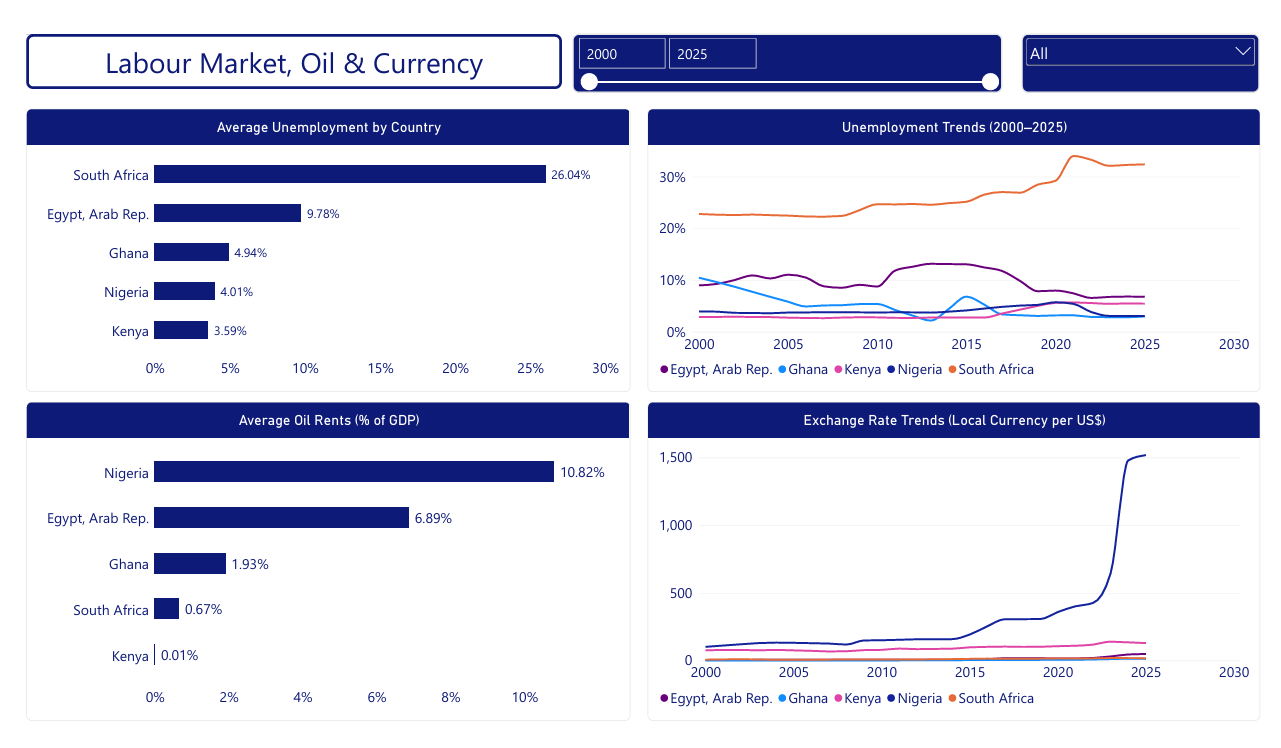

The page's visual inventory and layout, read from the dashboard file:
{"tool":"powerbi","page":{"name":"Labour Market, Oil & Currency","canvas":[1920,1080],"ordinal":3},"visuals":[{"type":"shape","box":[17.3,19.4,812.2,82.1],"z":0},{"type":"clusteredBarChart","title":"Average Unemployment by Country","fields":{"Category":["african_economic_indicators.country"],"Y":["african_economic_indicators.Average Unemployment"]},"box":[17.3,131.8,915.8,429.8],"z":1000},{"type":"lineChart","title":"Unemployment Trends (2000–2025)","fields":{"Category":["african_economic_indicators.year"],"Series":["african_economic_indicators.country"],"Y":["african_economic_indicators.Average Unemployment"]},"box":[959,131.8,928.8,429.8],"z":2000},{"type":"clusteredBarChart","title":"Average Oil Rents (% of GDP)","fields":{"Category":["african_economic_indicators.country"],"Y":["african_economic_indicators.Average Oil Rents"]},"box":[17.3,576.7,915.8,483.8],"z":3000},{"type":"lineChart","title":"Exchange Rate Trends (Local Currency per US$)","fields":{"Category":["african_economic_indicators.year"],"Series":["african_economic_indicators.country"],"Y":["african_economic_indicators.Average Exchange Rate"]},"box":[959,576.7,928.8,483.8],"z":4000},{"type":"slicer","fields":{"Values":["african_economic_indicators.year"]},"box":[845.1,18.5,652.3,89.8],"z":5000},{"type":"slicer","fields":{"Values":["african_economic_indicators.country"]},"box":[1526.5,18.5,361,89.8],"z":6000}]}

Visuals, with their boxes on the page's 1920x1080 design canvas (x1, y1, x2, y2). These are canvas units, not pixel positions in the 1281x748 screenshot, which may show the page scaled, cropped or inside an application window:
shape: pyautogui.locateOnScreen(17, 19, 830, 102)
"Average Unemployment by Country" clusteredBarChart: pyautogui.locateOnScreen(17, 132, 933, 562)
"Unemployment Trends (2000–2025)" lineChart: pyautogui.locateOnScreen(959, 132, 1888, 562)
"Average Oil Rents (% of GDP)" clusteredBarChart: pyautogui.locateOnScreen(17, 577, 933, 1060)
"Exchange Rate Trends (Local Currency per US$)" lineChart: pyautogui.locateOnScreen(959, 577, 1888, 1060)
slicer - african_economic_indicators.year: pyautogui.locateOnScreen(845, 18, 1497, 108)
slicer - african_economic_indicators.country: pyautogui.locateOnScreen(1526, 18, 1888, 108)
